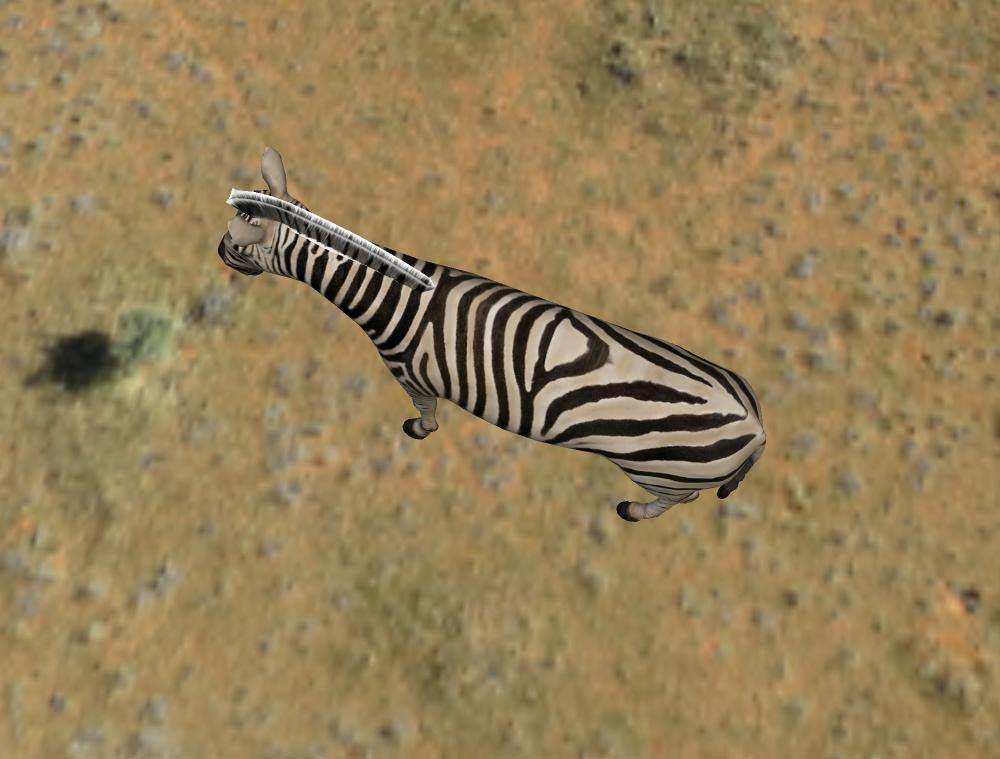zebra: (215, 146, 767, 524)
